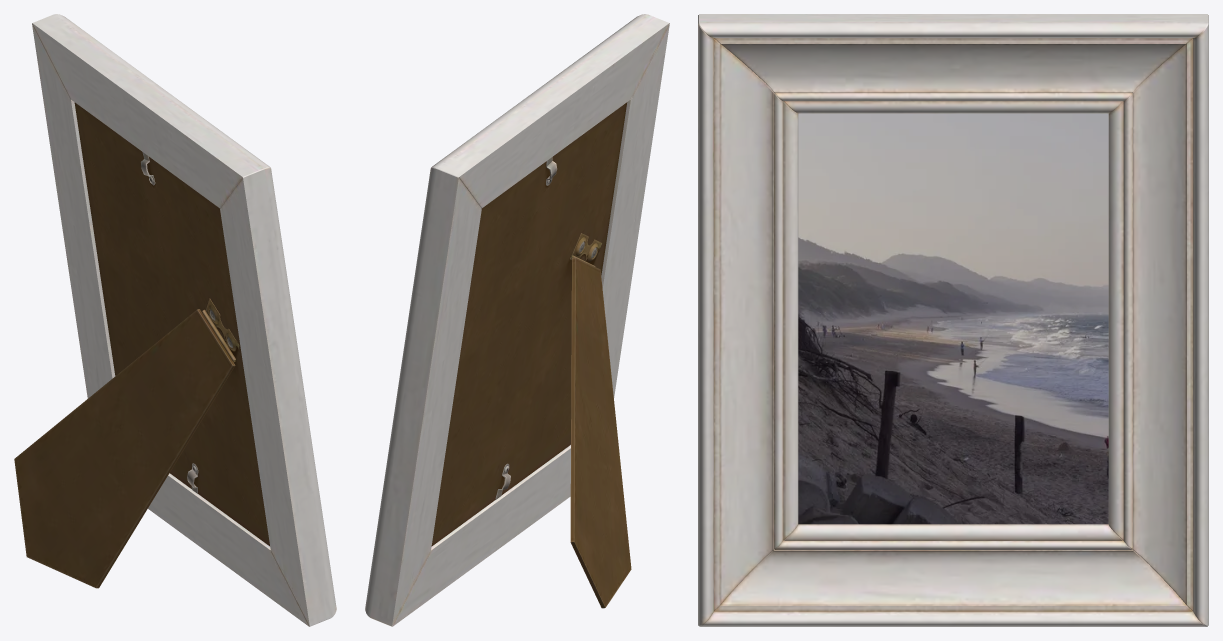
Rendered from photo.glb.
The picture shows the model from 3 angles, left to right: view 1: azimuth 30°, elevation 25°; view 2: azimuth 150°, elevation 25°; view 3: azimuth 270°, elevation 25°; orthographic projection. The views are drawn at different scales.
Parts seen in each view (by area): view 1: picture_body, picture_note; view 2: picture_body, picture_note; view 3: picture_body, picture_photo.
Part boxes in pixels (<box>): picture_body: <box>14,14,336,626</box>; picture_note: <box>74,102,269,546</box>; picture_body: <box>365,14,669,626</box>; picture_note: <box>431,102,627,546</box>; picture_body: <box>698,14,1208,626</box>; picture_photo: <box>798,113,1108,524</box>.
Bounding box in the file's own units: 0.1023 × 0.2664 × 0.2169.
2 materials, 2 textured.
